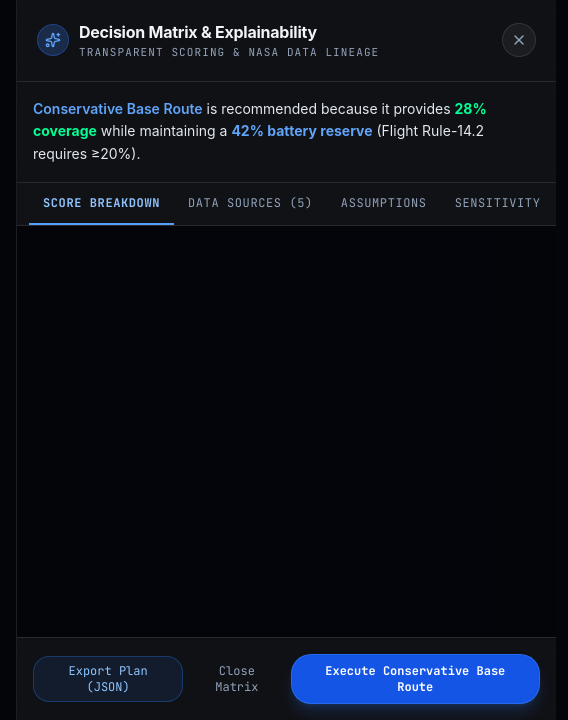
Test: ExplainabilityPanel Component › switches tabs to data sources and assumptions
Click the tab "Data Sources (5)": (250, 204) [174, 183, 327, 225]
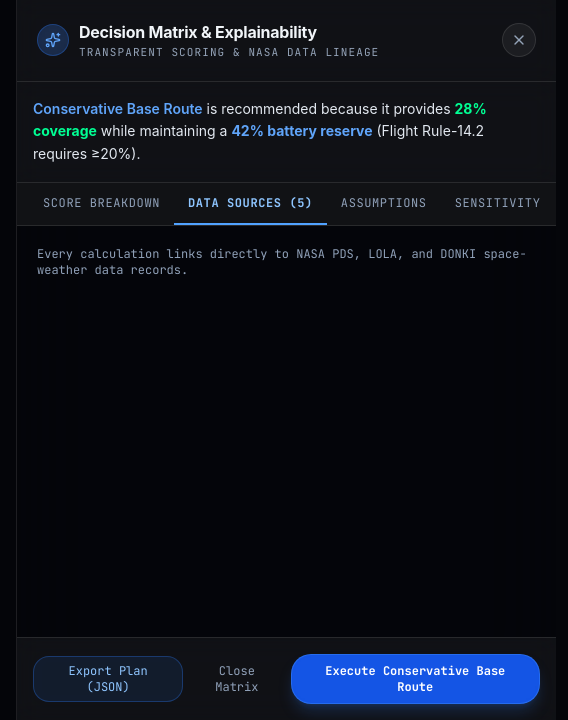
Expected: the text "Every calculation links directly to NASA PDS" is shown, [37, 246, 527, 278]
Click the tab "Assumptions": (384, 204) [327, 183, 441, 225]
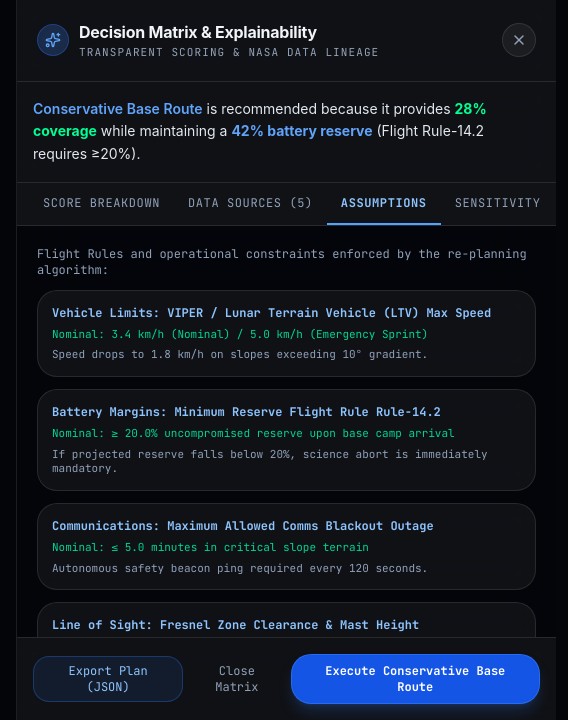
Expected: the text "Flight Rules and operational constraints" is shown, [37, 246, 527, 278]
